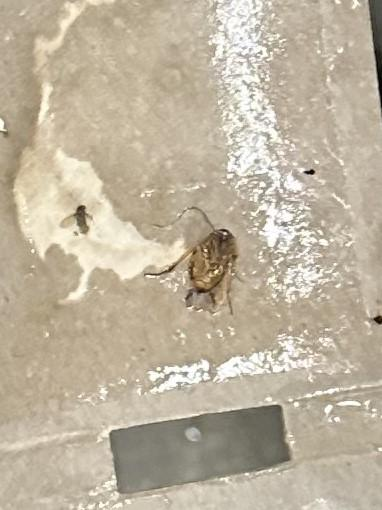cockroach: (141, 203, 245, 317)
